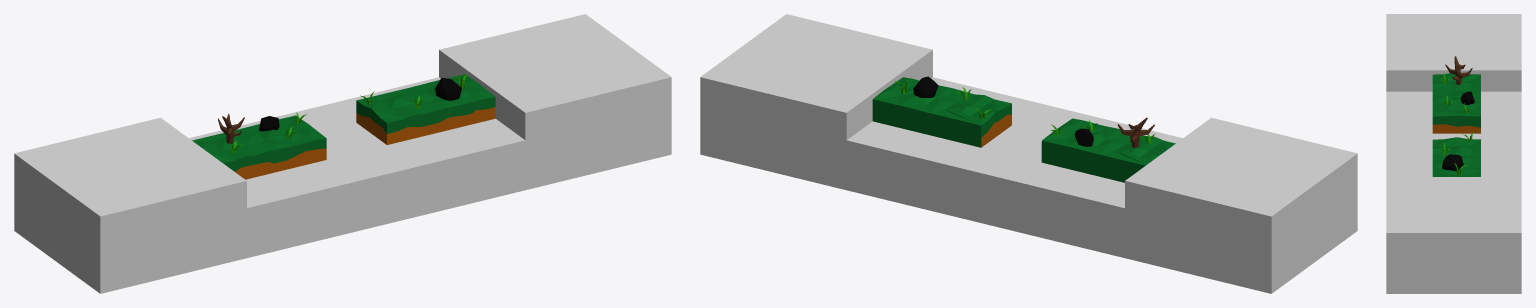
Rendered from Easy_Obstacle_Forest_4.fbx.
3 renders of one model, left to right at view 1: azimuth 30°, elevation 25°; view 2: azimuth 150°, elevation 25°; view 3: azimuth 270°, elevation 25°, orthographic. The views are drawn at different scales.
Parts seen in each view (by area): view 1: Cube, Icosphere.001; view 2: Cube, Icosphere.001; view 3: Cube, Icosphere.001, Icosphere.006.
Boxes of the visible parts, box(x1,y1,x2,y2) form: Cube: box(14, 14, 671, 293); Icosphere.001: box(192, 74, 495, 179); Cube: box(700, 14, 1357, 293); Icosphere.001: box(872, 76, 1175, 182); Cube: box(1386, 14, 1521, 293); Icosphere.001: box(1432, 56, 1480, 176); Icosphere.006: box(1460, 91, 1474, 105).
Bounding box in the file's own units: 10231 × 1788 × 2676.
